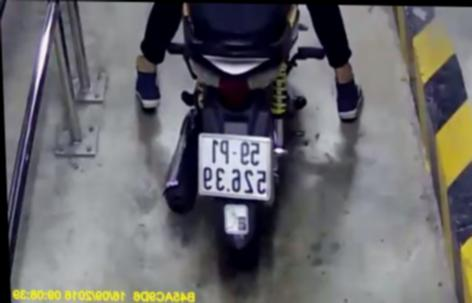License_Plate: (187, 132, 282, 207)
